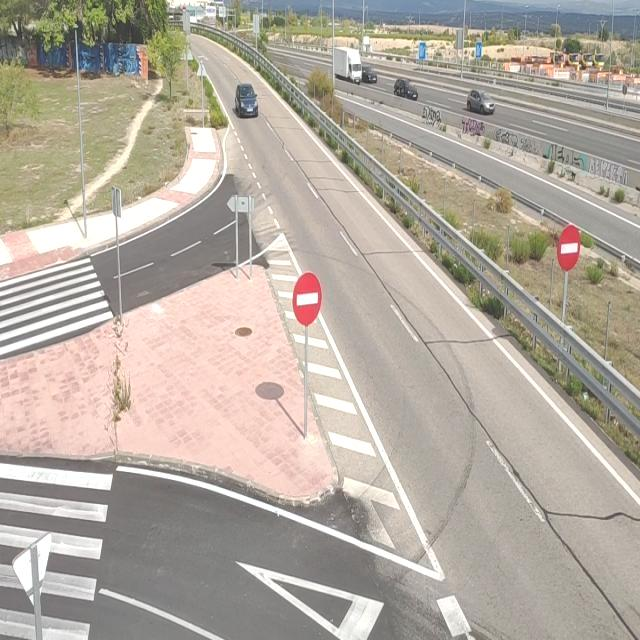Car: (234, 83, 259, 119), (466, 89, 496, 116), (393, 77, 419, 101), (361, 64, 378, 84)
Truck: (332, 45, 362, 85)
